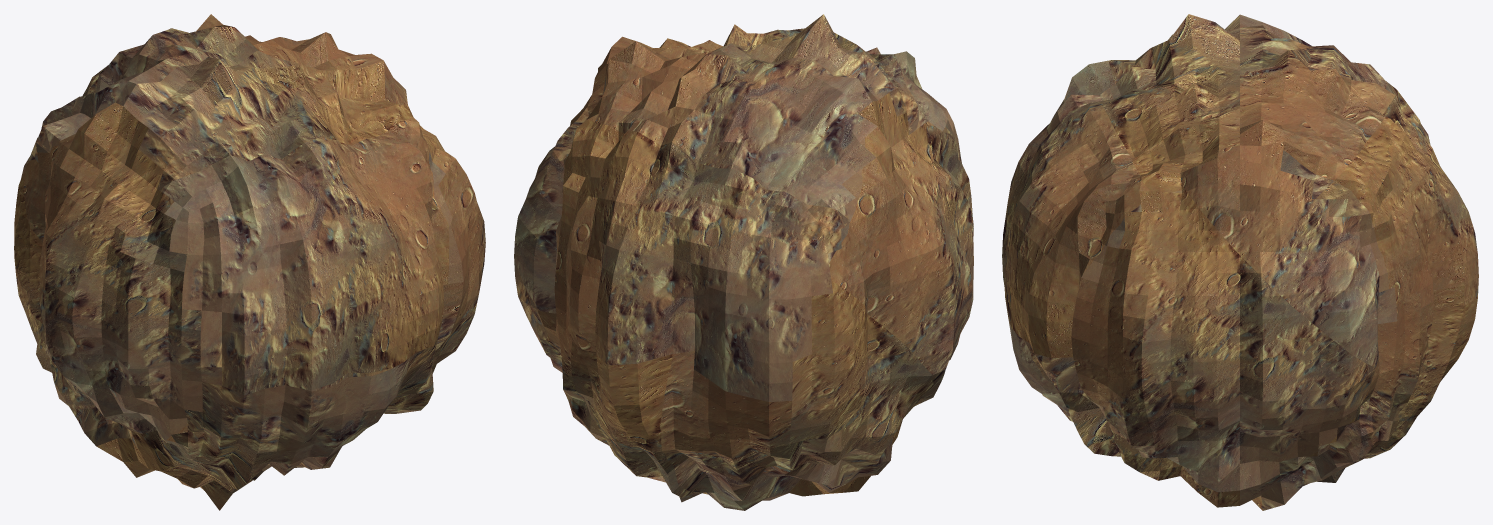
File: asteroid67.obj
3 views of the same model, side by side, from view 1: azimuth 30°, elevation 25°; view 2: azimuth 150°, elevation 25°; view 3: azimuth 270°, elevation 25° (orthographic). The views are drawn at different scales.
Visible parts, largest first — view 1: Cube_Cube.002; view 2: Cube_Cube.002; view 3: Cube_Cube.002.
Part boxes in pixels (<box>): Cube_Cube.002: <box>14,14,485,510</box>; Cube_Cube.002: <box>514,14,973,510</box>; Cube_Cube.002: <box>1002,14,1478,510</box>.
Bounding box in the file's own units: 1.77 × 1.95 × 1.83.
